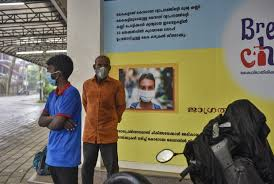mask: (44, 61, 64, 86), (137, 76, 155, 102), (95, 58, 111, 79)
